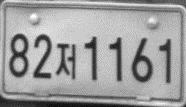1: (83, 35, 99, 80), (107, 37, 123, 82), (157, 36, 172, 84)
2: (32, 34, 52, 80)
6: (130, 37, 153, 83)
8: (8, 32, 29, 78)
저: (55, 43, 77, 80)
